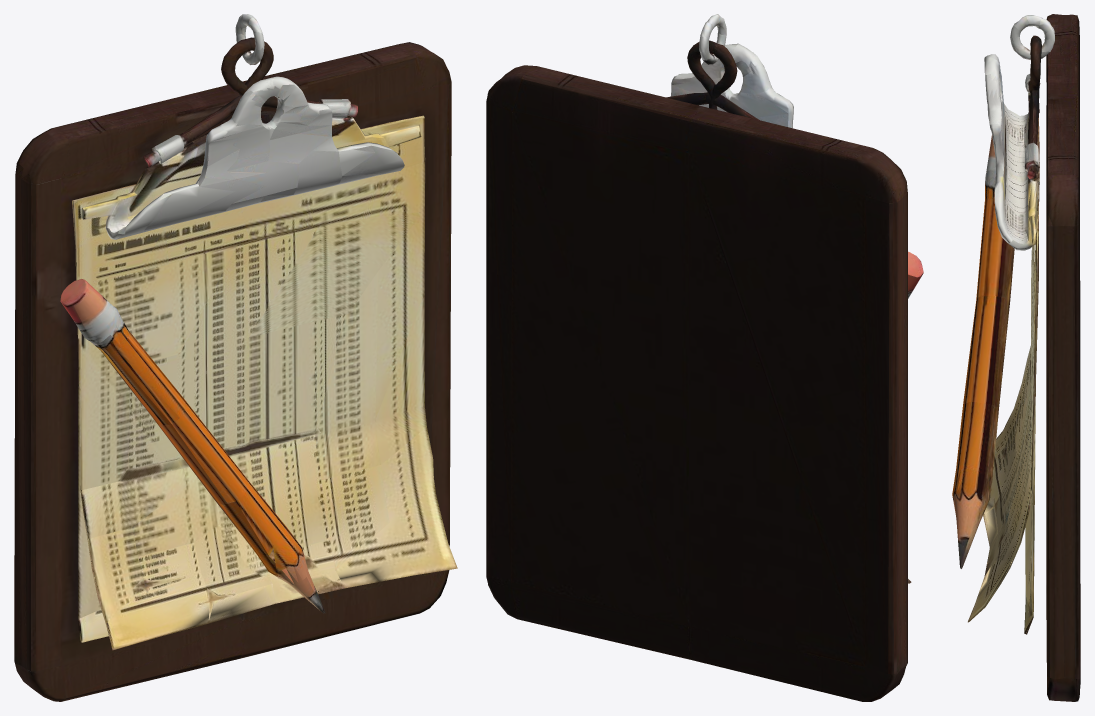
Rendered from odds_sheet.glb.
The picture shows the model from 3 angles, left to right: view 1: azimuth 30°, elevation 25°; view 2: azimuth 150°, elevation 25°; view 3: azimuth 270°, elevation 25°; orthographic projection. The views are drawn at different scales.
Bounding box in the file's own units: 0.6855 × 1 × 0.1934.
Materials: 1 (1 with a texture image).
